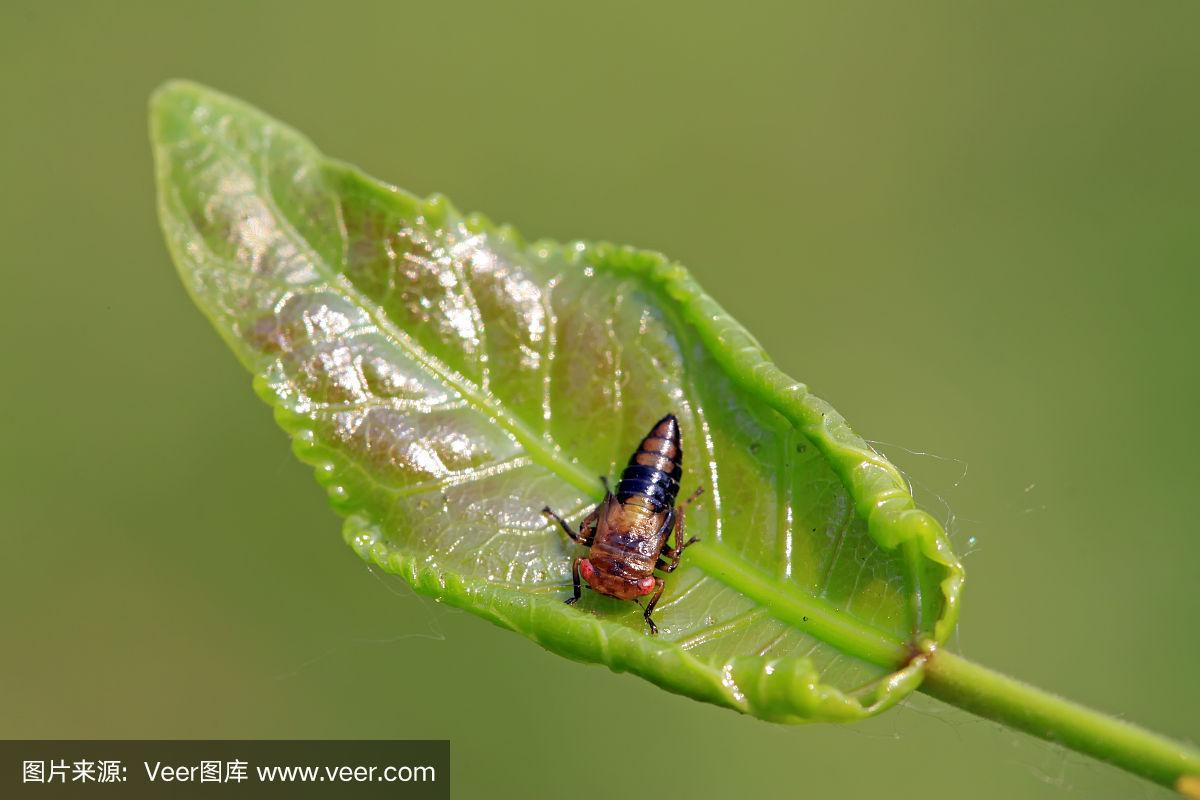Cicadellidae: (564, 414, 697, 615)
